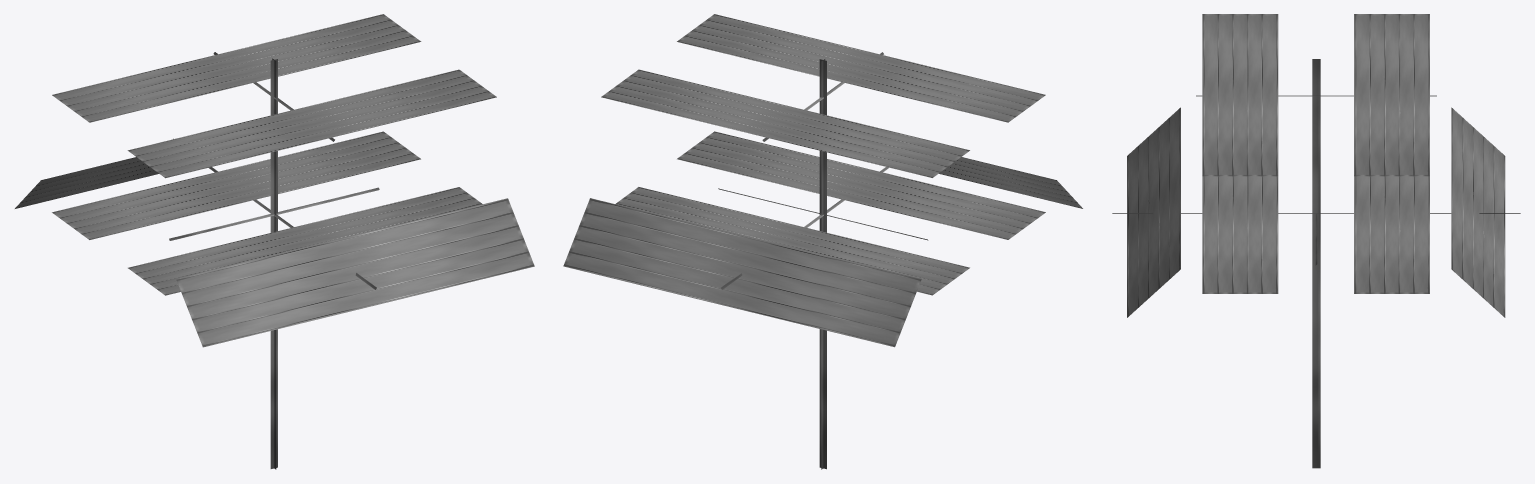
File: antenna_6.obj
3 views of the same model, side by side, from view 1: azimuth 30°, elevation 25°; view 2: azimuth 150°, elevation 25°; view 3: azimuth 270°, elevation 25° (orthographic).
Parts seen in each view (by area): view 1: antenna_6; view 2: antenna_6; view 3: antenna_6.
Part boxes in pixels (<box>): antenna_6: <box>15,14,534,469</box>; antenna_6: <box>563,14,1082,469</box>; antenna_6: <box>1112,14,1520,468</box>.
Bounding box in the file's own units: 1.73 × 2.04 × 1.84.
1 material, 1 textured.
